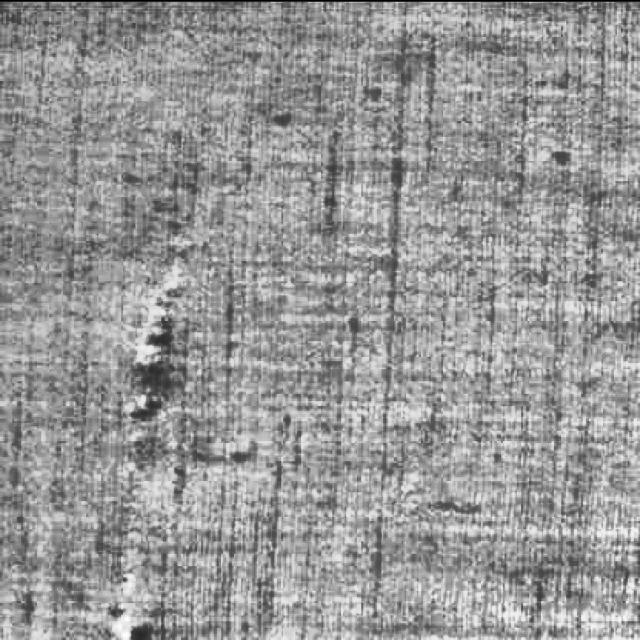thread_error: (104, 244, 212, 640)
